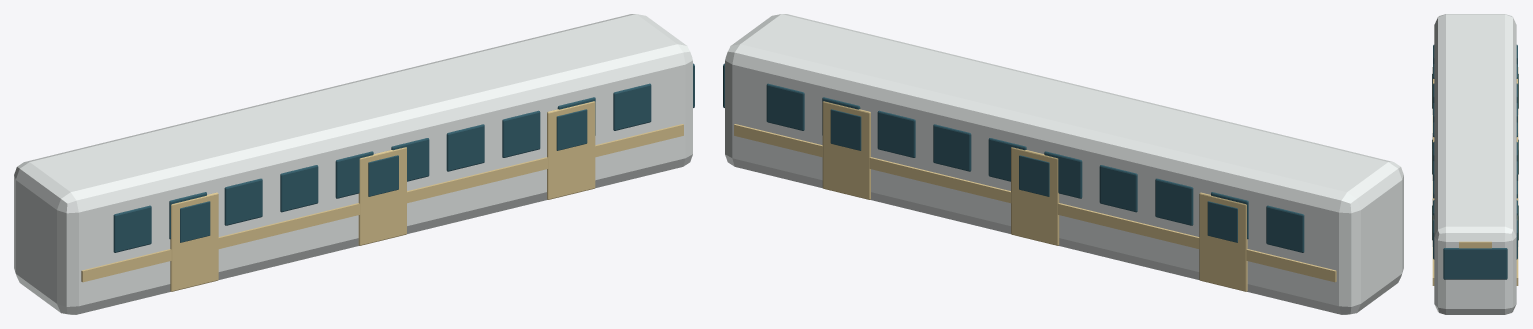
The model's file is transport-metro-line10.glb.
3 renders of one model, left to right at view 1: azimuth 30°, elevation 25°; view 2: azimuth 150°, elevation 25°; view 3: azimuth 270°, elevation 25°, orthographic. The views are drawn at different scales.
Parts seen in each view (by area): view 1: MetroLine10; view 2: MetroLine10; view 3: MetroLine10.
Boxes of the visible parts, x1=… form: MetroLine10: x1=14, y1=14, x2=694, y2=314; MetroLine10: x1=723, y1=14, x2=1403, y2=314; MetroLine10: x1=1432, y1=14, x2=1518, y2=314.
Bounding box in the file's own units: 19.31 × 3.55 × 3.18.
